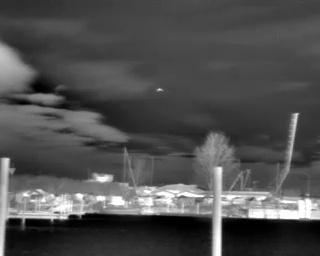BIRD: (155, 85, 165, 95)
